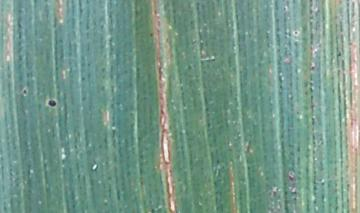tarspot: (45, 98, 58, 109), (22, 90, 27, 95)
